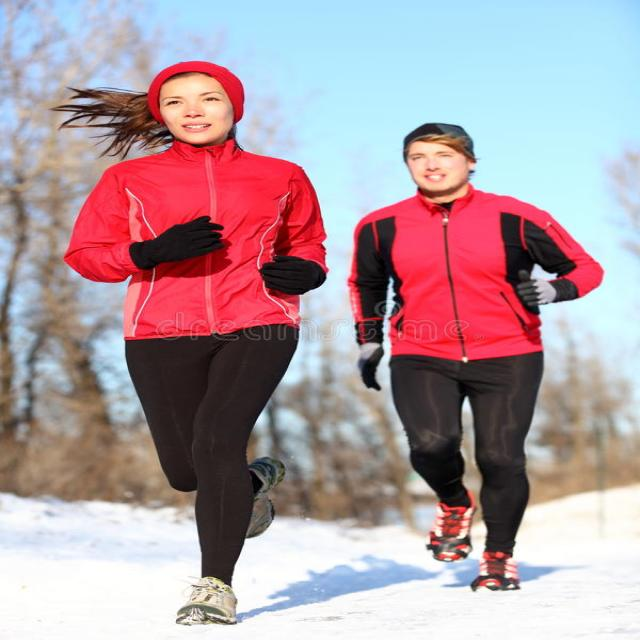running: (56, 58, 337, 630), (347, 116, 611, 594)
